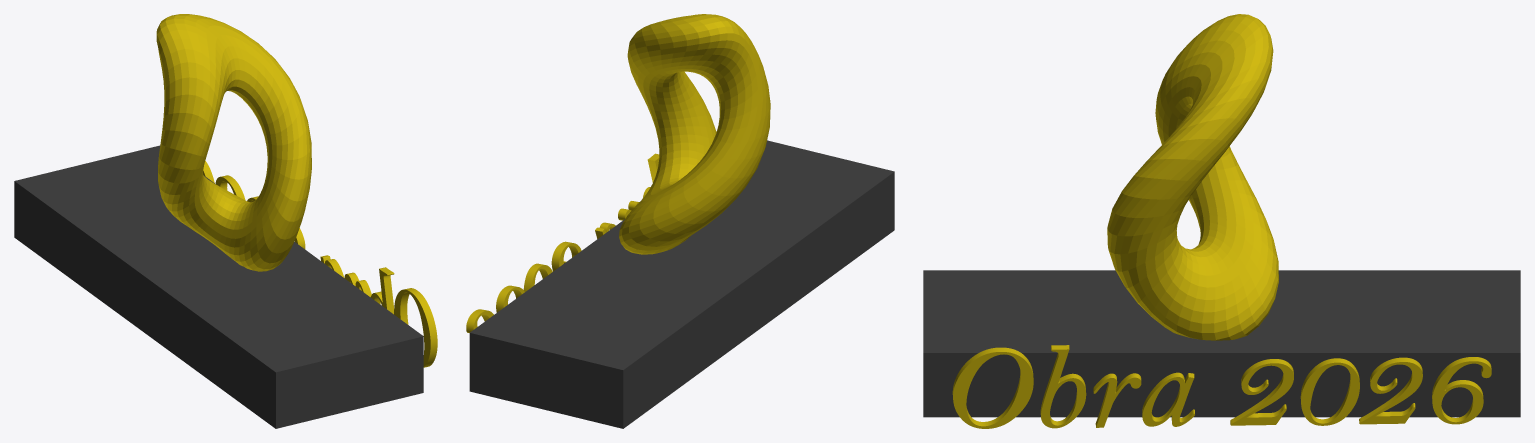
Rendered from escultura.obj.
The picture shows the model from 3 angles, left to right: view 1: azimuth 30°, elevation 25°; view 2: azimuth 150°, elevation 25°; view 3: azimuth 270°, elevation 25°; orthographic projection. The views are drawn at different scales.
Visible parts, largest first — view 1: Cube, Toroide.001, Texto; view 2: Cube, Toroide.001, Texto; view 3: Cube, Toroide.001, Texto.
Boxes of the visible parts, <box> form: Cube: <box>14,145,423,428</box>; Toroide.001: <box>156,14,311,271</box>; Texto: <box>203,161,437,367</box>; Cube: <box>469,140,894,428</box>; Toroide.001: <box>619,14,770,254</box>; Texto: <box>466,153,659,332</box>; Cube: <box>923,270,1520,417</box>; Toroide.001: <box>1107,14,1278,340</box>; Texto: <box>952,345,1491,428</box>.
Size of the model in its own units: 1.49 by 2.41 by 3.84.
